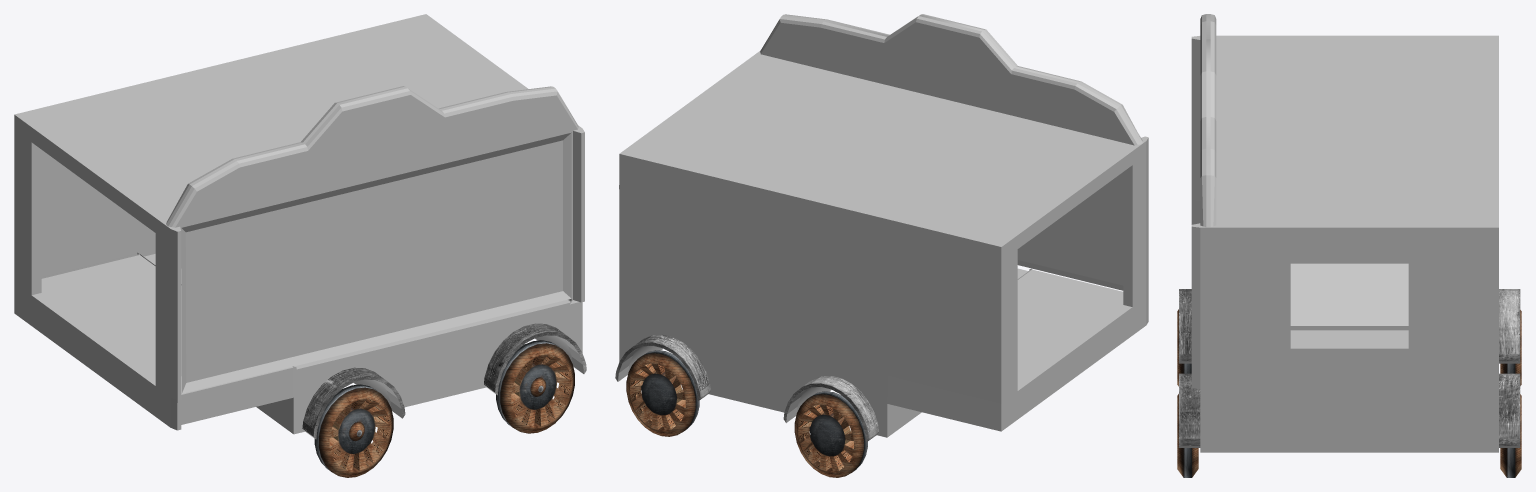
The model's file is Caravan_01.FBX.
3 renders of one model, left to right at view 1: azimuth 30°, elevation 25°; view 2: azimuth 150°, elevation 25°; view 3: azimuth 270°, elevation 25°, orthographic. The views are drawn at different scales.
Visible parts, largest first — view 1: Cylinder001, Torus004; view 2: Cylinder001, Torus005; view 3: Cylinder001, Torus005, Torus004.
Part boxes in pixels (box(x1,y1,x2,y2)): Cylinder001: box(14, 14, 586, 439); Torus004: box(314, 340, 574, 477); Cylinder001: box(615, 14, 1148, 442); Torus005: box(626, 350, 867, 477); Cylinder001: box(1179, 14, 1520, 452); Torus005: box(1500, 310, 1521, 477); Torus004: box(1177, 309, 1198, 477).
Size of the model in its own units: 7.03 by 5.34 by 4.78.
